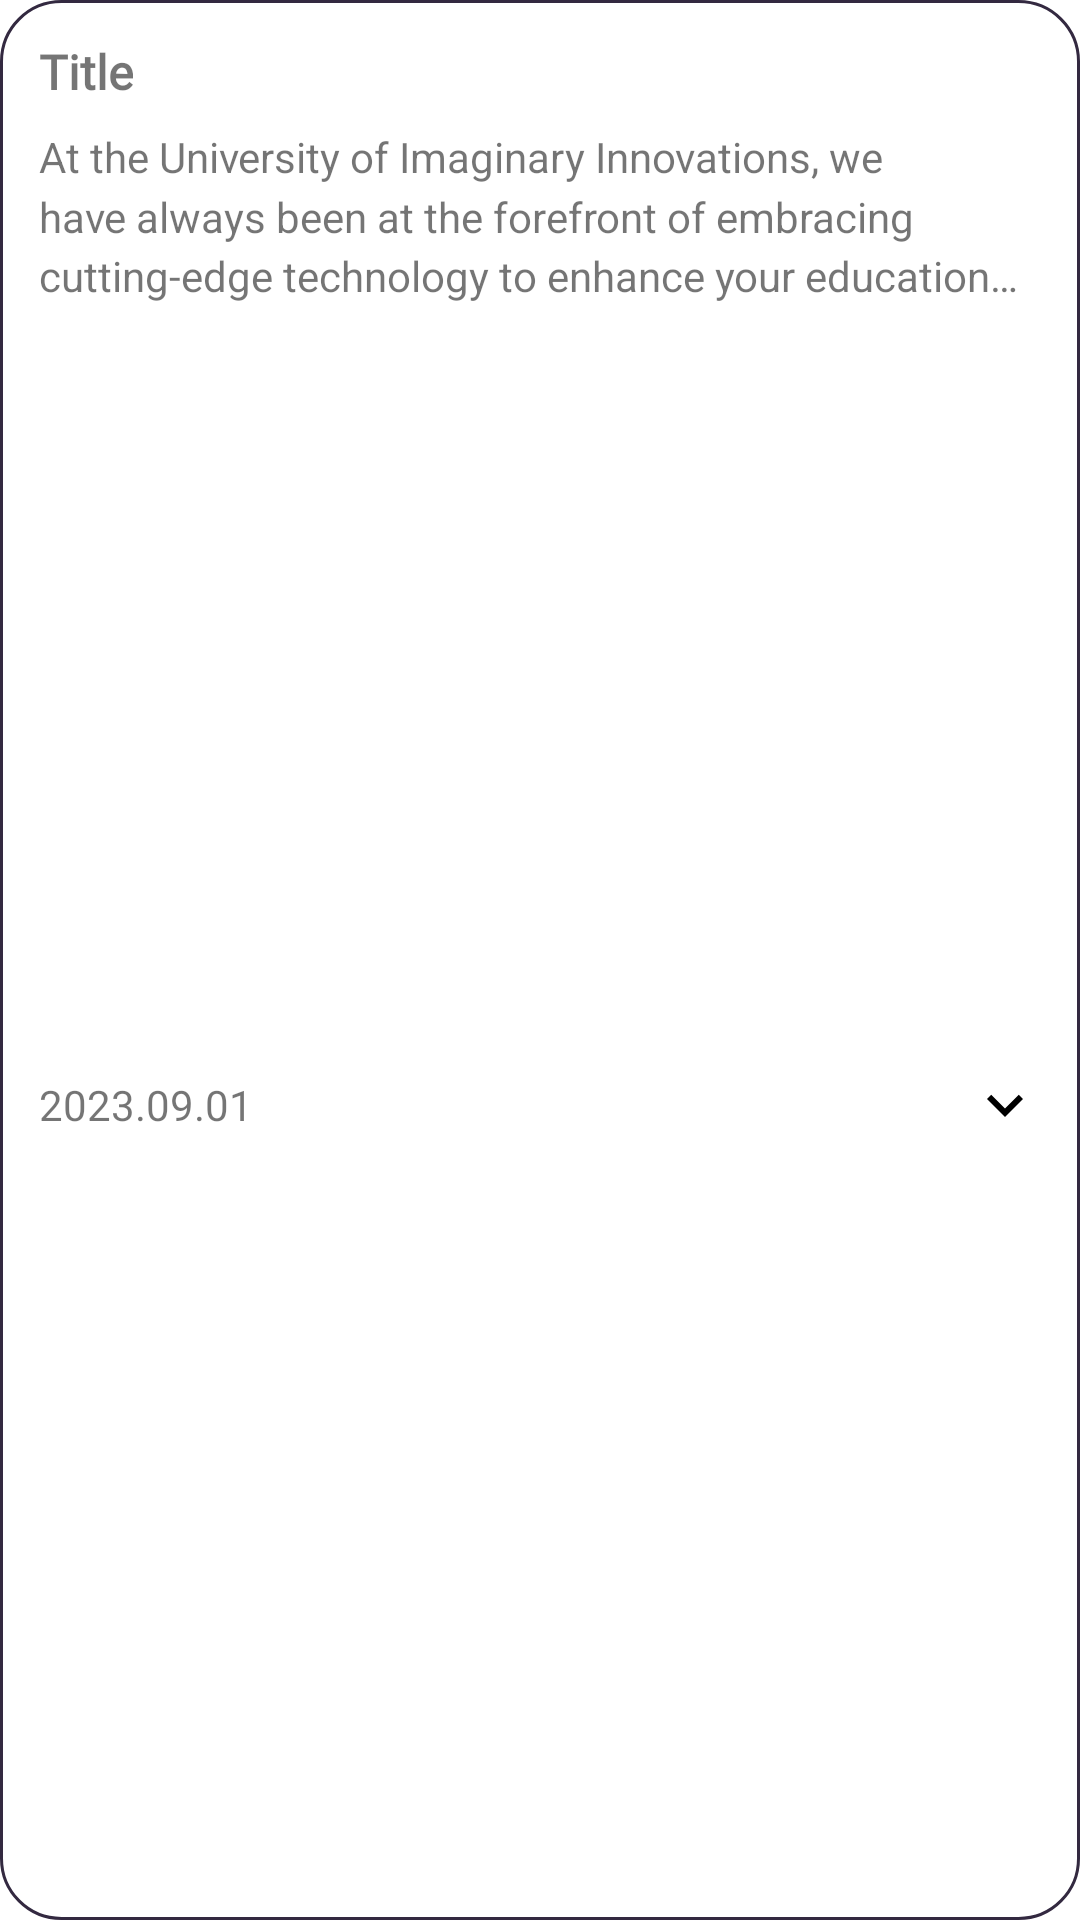

Icon bounding boxes for this 1080px×1920px phone screenshot, format (x1, y1, x2, y2):
expand more: (987, 1095, 1023, 1117)
